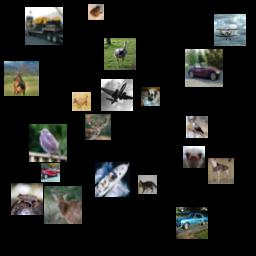airplane: (101, 79, 133, 111), (214, 14, 246, 46)
automobile: (185, 49, 223, 87), (176, 207, 208, 239), (41, 163, 60, 182)
bird: (29, 124, 67, 162), (104, 38, 136, 70), (183, 146, 205, 168), (186, 116, 208, 138)
cat: (138, 175, 157, 194)
deer: (44, 186, 82, 224), (4, 61, 39, 96), (85, 114, 111, 140), (72, 92, 91, 111)
dog: (208, 158, 234, 184), (141, 87, 160, 106)
frog: (11, 183, 43, 215), (88, 4, 104, 20)
ship: (95, 162, 130, 197)
truck: (25, 7, 63, 45)
